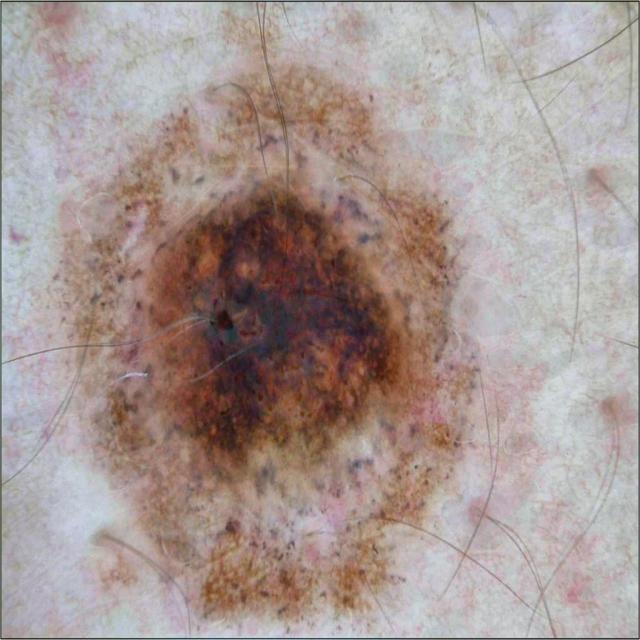Melanocytic-Nevi-NV-: (64, 55, 484, 590)
